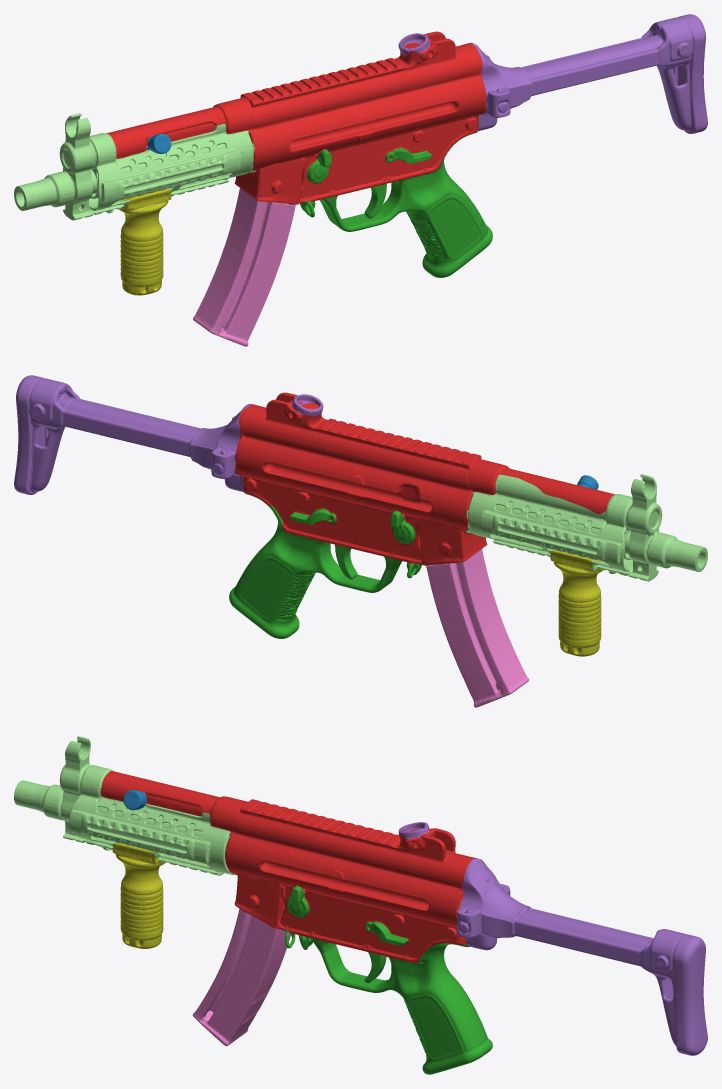
The model's file is obsidian-carbine.glb.
3 views of the same model, one above another, from view 1: azimuth 30°, elevation 25°; view 2: azimuth 150°, elevation 25°; view 3: azimuth 330°, elevation 25° (orthographic).
Visible parts, largest first — view 1: model_part16, model_part15, model_part13, model_part12, model_part14, model_part0, model_part4; view 2: model_part16, model_part15, model_part13, model_part12, model_part14, model_part0, model_part3; view 3: model_part16, model_part13, model_part15, model_part12, model_part14, model_part0.
Part boxes in pixels (<box>): model_part16: <box>92,31,486,204</box>; model_part15: <box>14,113,256,220</box>; model_part13: <box>471,14,707,133</box>; model_part12: <box>300,132,492,277</box>; model_part14: <box>193,188,295,346</box>; model_part0: <box>119,189,172,295</box>; model_part4: <box>307,149,331,182</box>; model_part16: <box>235,392,629,565</box>; model_part15: <box>466,474,707,581</box>; model_part13: <box>14,375,251,494</box>; model_part12: <box>229,494,421,638</box>; model_part14: <box>426,549,529,707</box>; model_part0: <box>550,550,602,656</box>; model_part3: <box>390,510,415,543</box>; model_part16: <box>100,771,477,962</box>; model_part13: <box>456,858,707,1055</box>; model_part15: <box>14,736,237,875</box>; model_part12: <box>283,930,492,1074</box>; model_part14: <box>192,908,290,1046</box>; model_part0: <box>112,842,164,948</box>.
Size of the model in its own units: 0.12 by 0.0439 by 0.0126.
